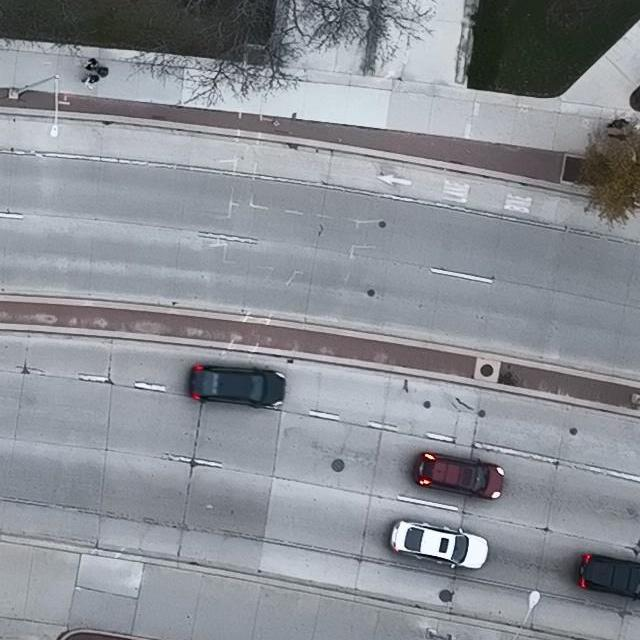car: (389, 518, 489, 568), (413, 451, 505, 499), (187, 364, 287, 408), (579, 551, 640, 600)
